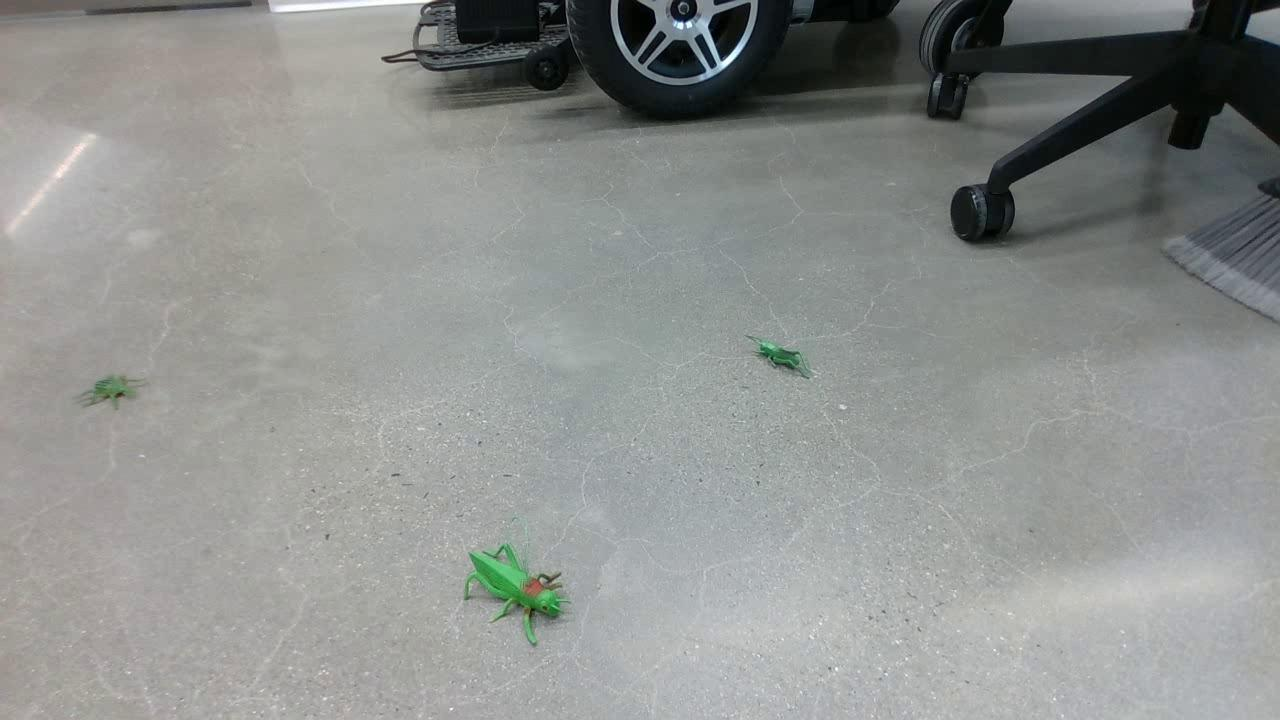grasshopper: (464, 543, 568, 639)
